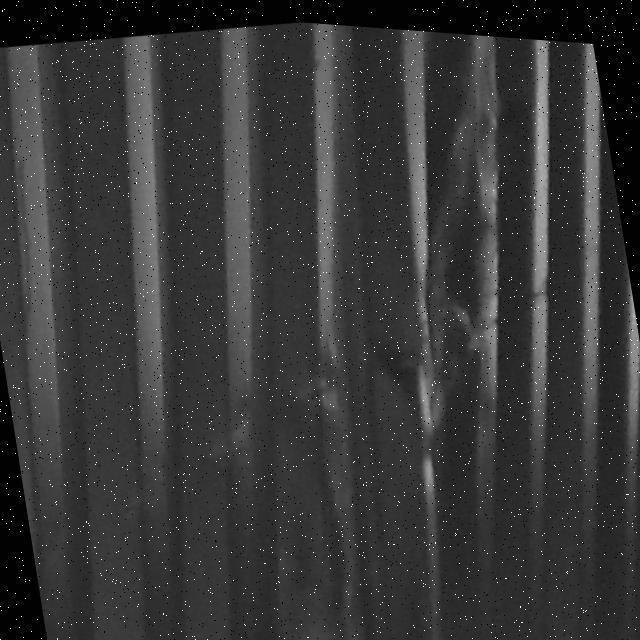rust: (352, 103, 543, 418)
